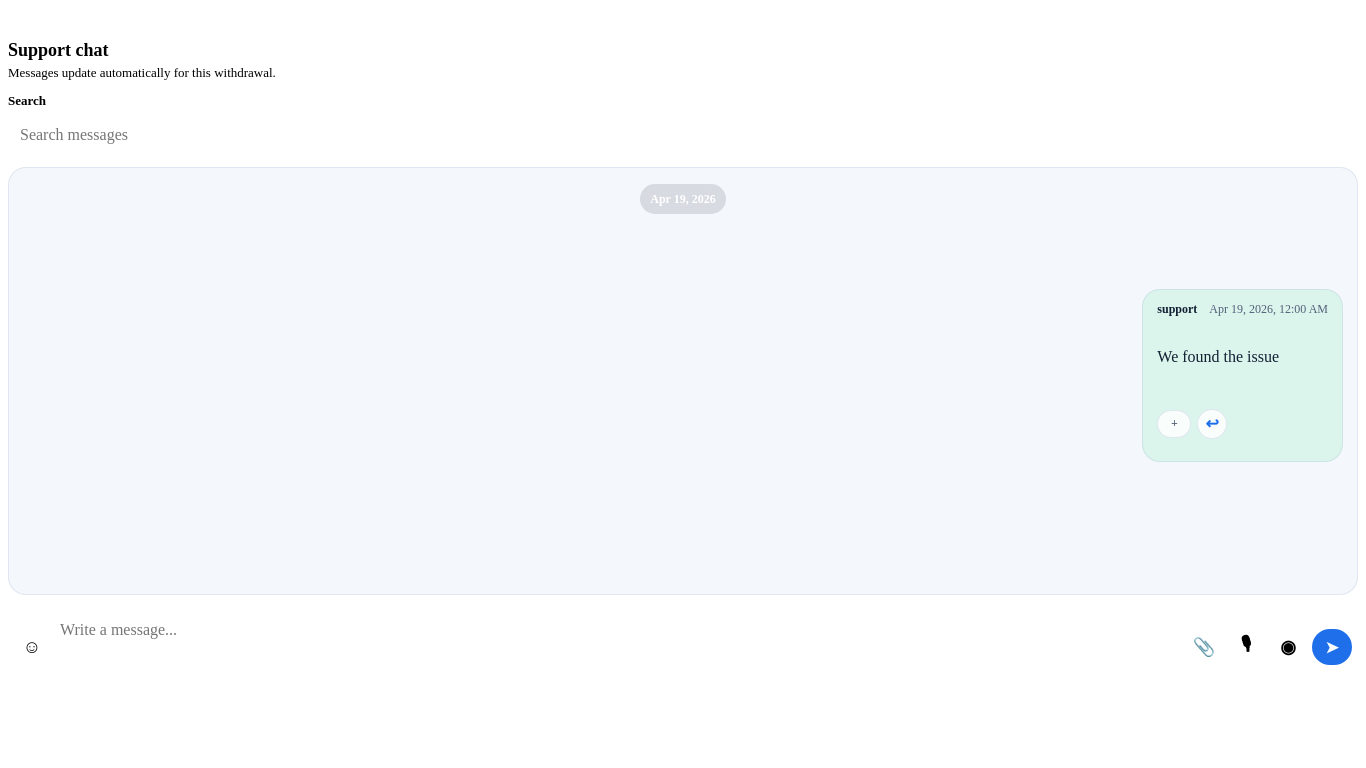
Test case: withdraw ticket chat › selects one reaction from a telegram-style reaction picker
Check: the text "We found the issue" is shown, box [1157, 348, 1279, 365]
Step 1. Click the button named "Choose reaction" → (1174, 424), box [1157, 410, 1191, 438]
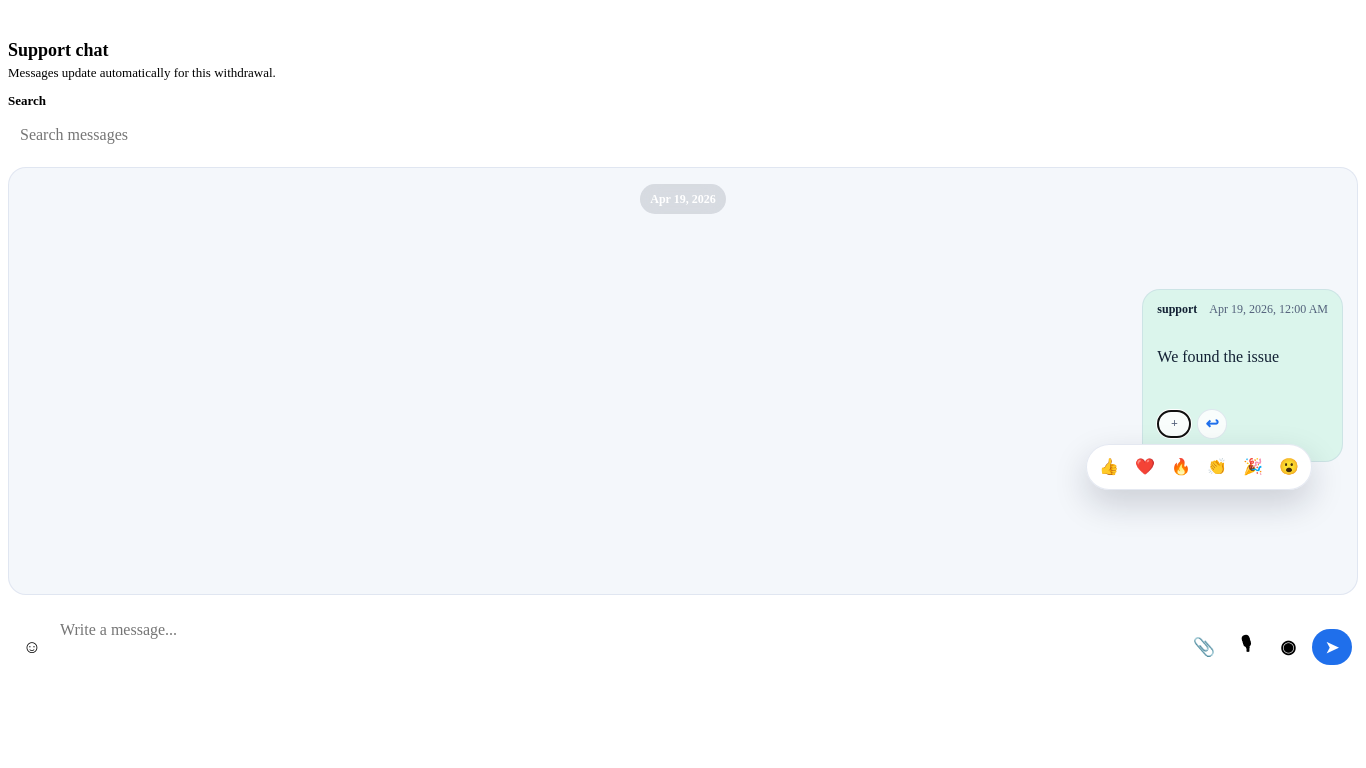
Step 2. Click the button named "React with heart" → (1145, 467), box [1129, 451, 1161, 483]
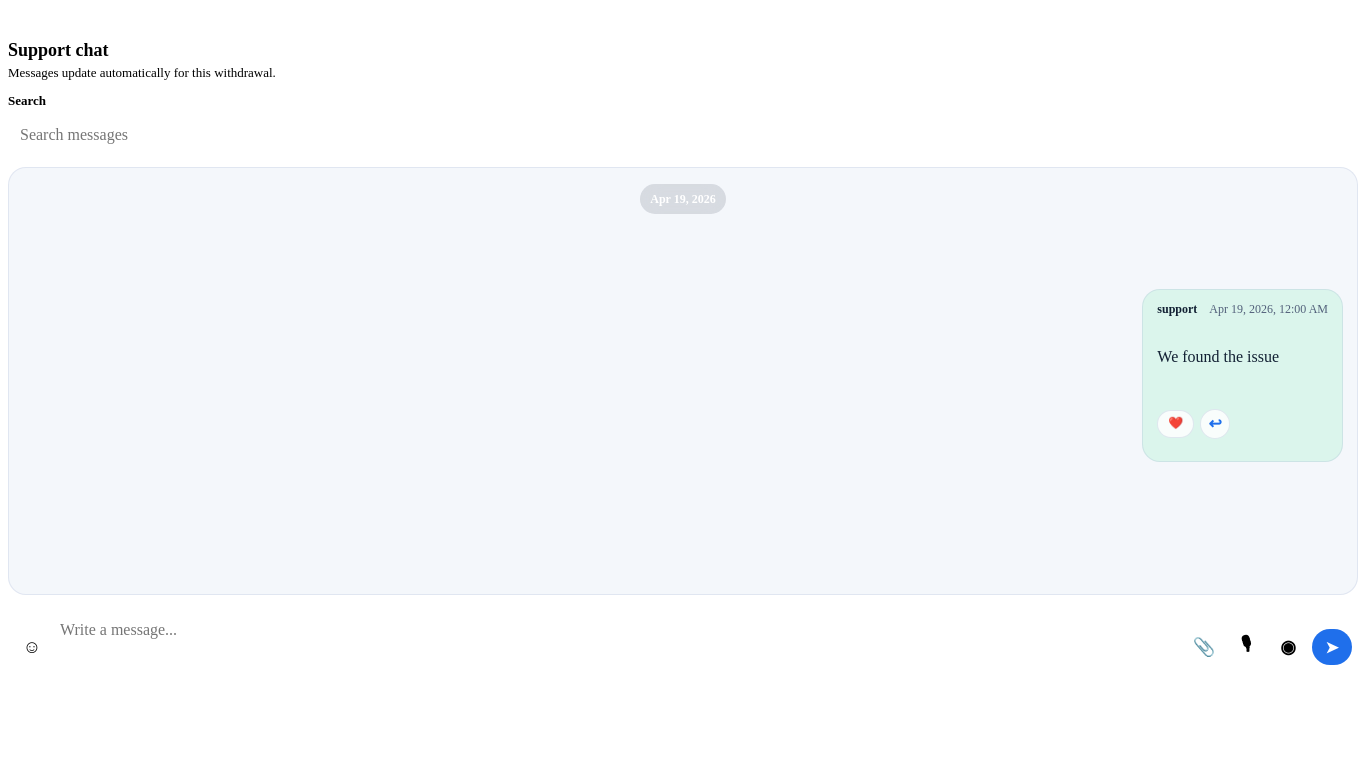
Check: the button "❤️" is shown, box [1157, 410, 1194, 438]
Check: the button "👍" is gone
